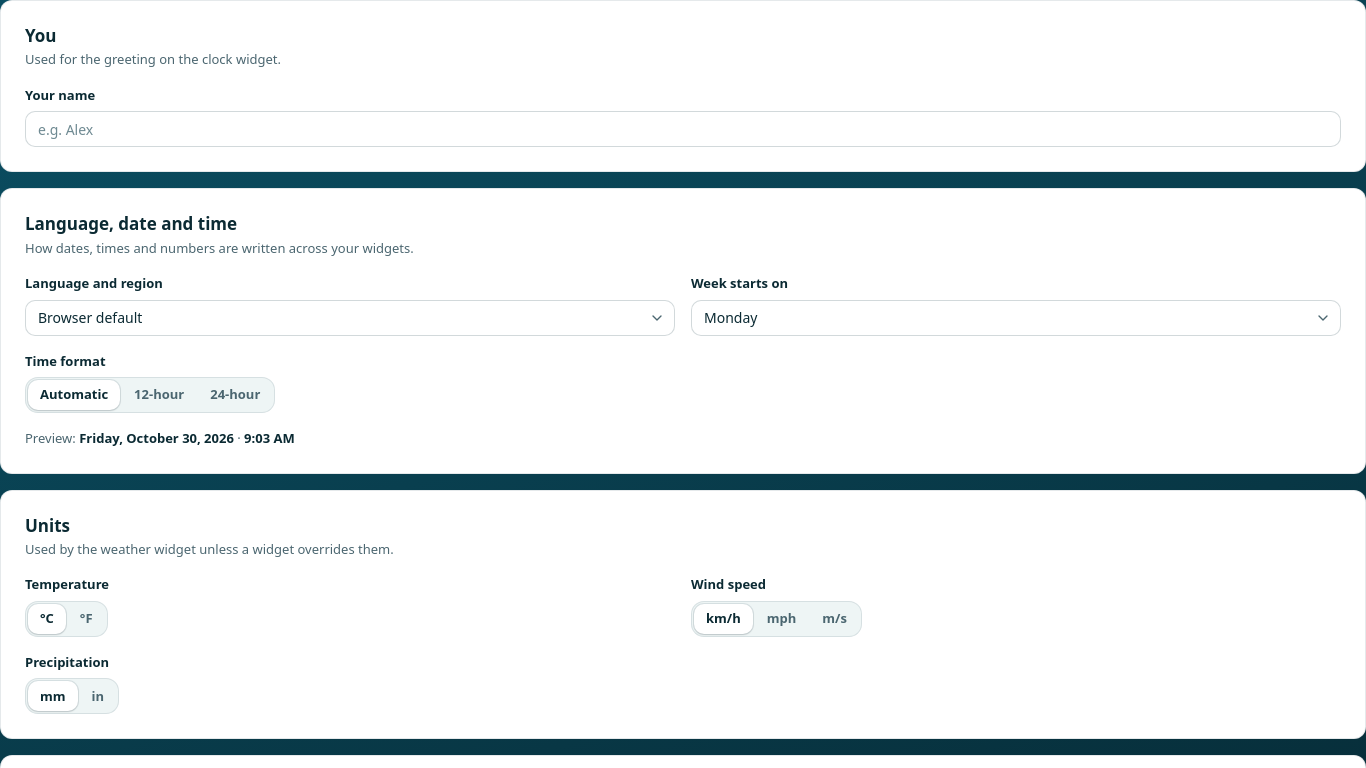
Test case: General settings (saved as you go, UX-5) › saves each choice on its own, without a Save button
The width and height of the screenshot is (1366, 768).
Select "Deutsch (Deutschland)" in the dropdown labelled "Language and region" at (350, 318), box x1=25 y1=300 x2=675 y2=336
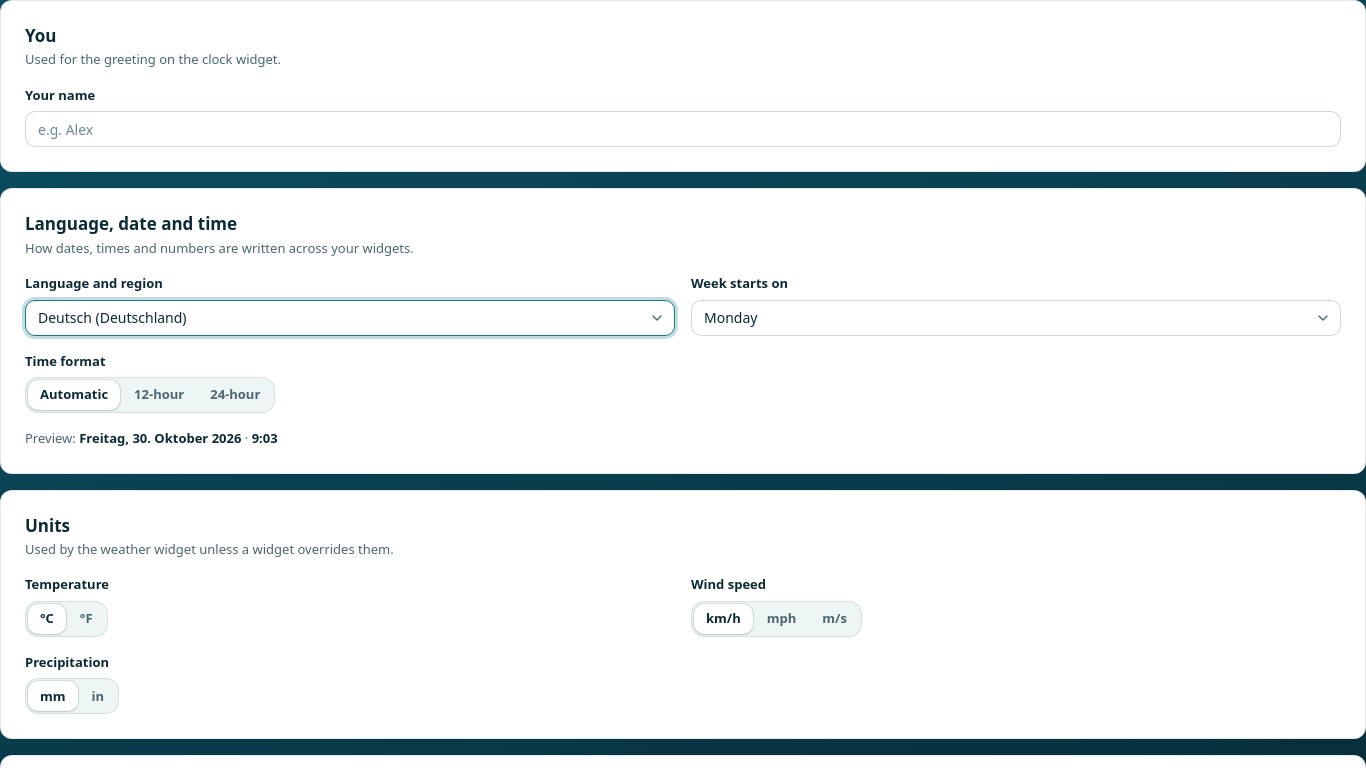
Click the radio button labelled "24-hour" at (235, 395), box x1=198 y1=380 x2=272 y2=410
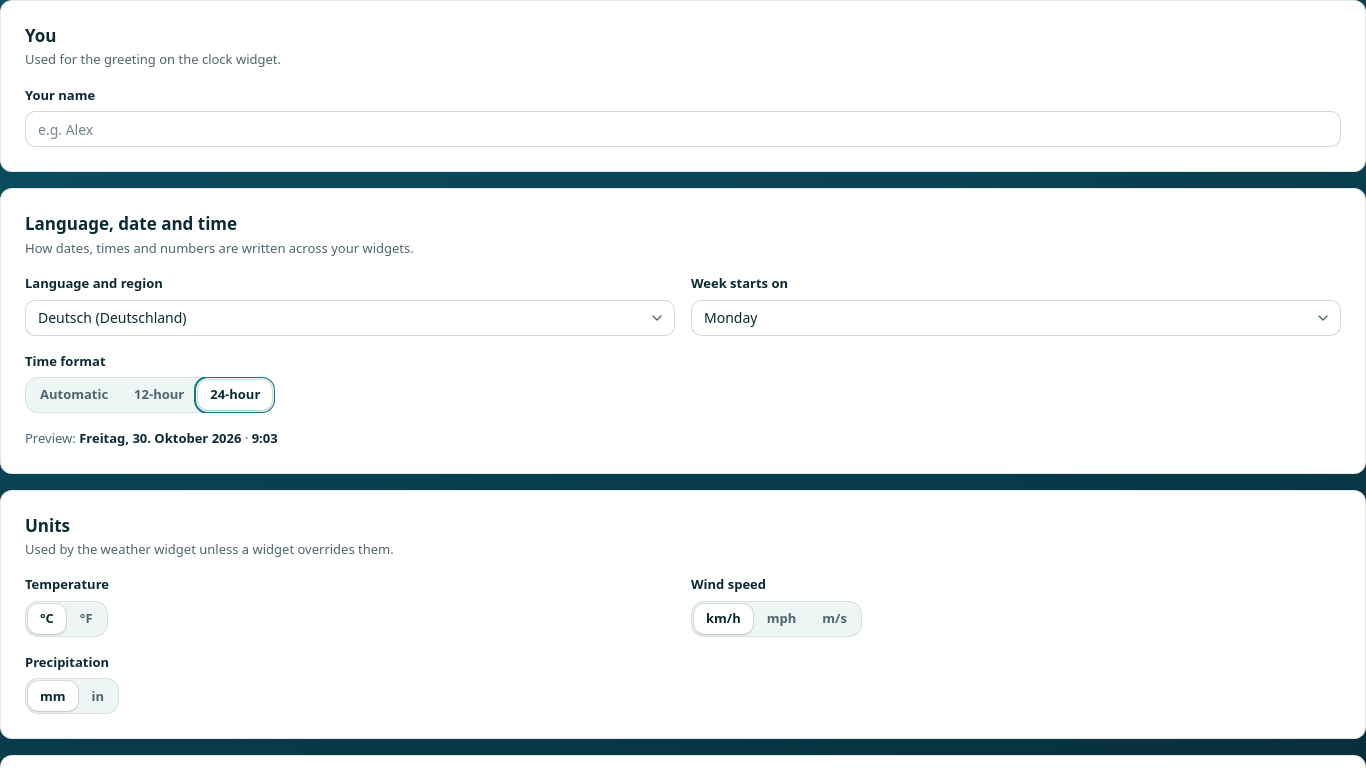
Select "Sunday" in the dropdown labelled "Week starts on" at (1016, 318), box x1=691 y1=300 x2=1341 y2=336
Click the radio button labelled "°F" at (86, 619), box x1=68 y1=604 x2=105 y2=634
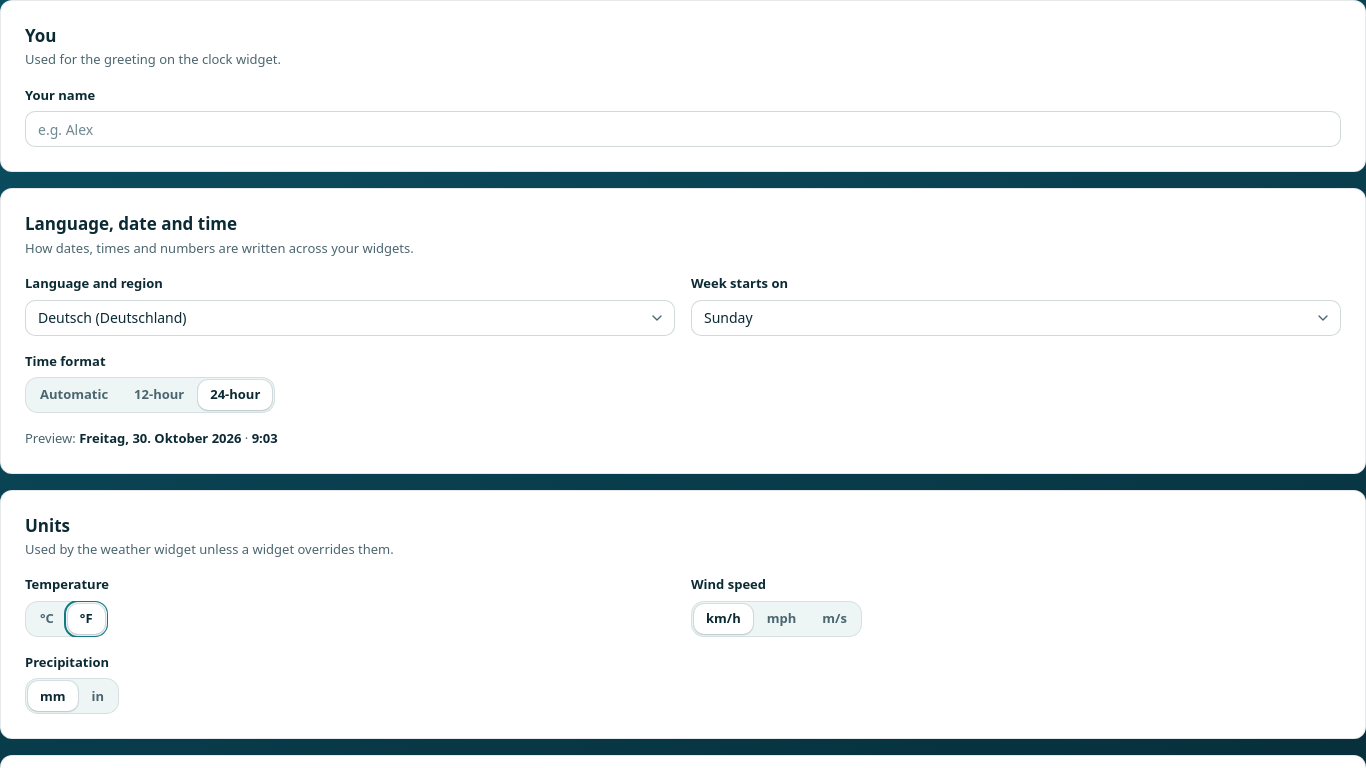
Click the radio button labelled "mph" at (782, 619), box x1=755 y1=604 x2=808 y2=634
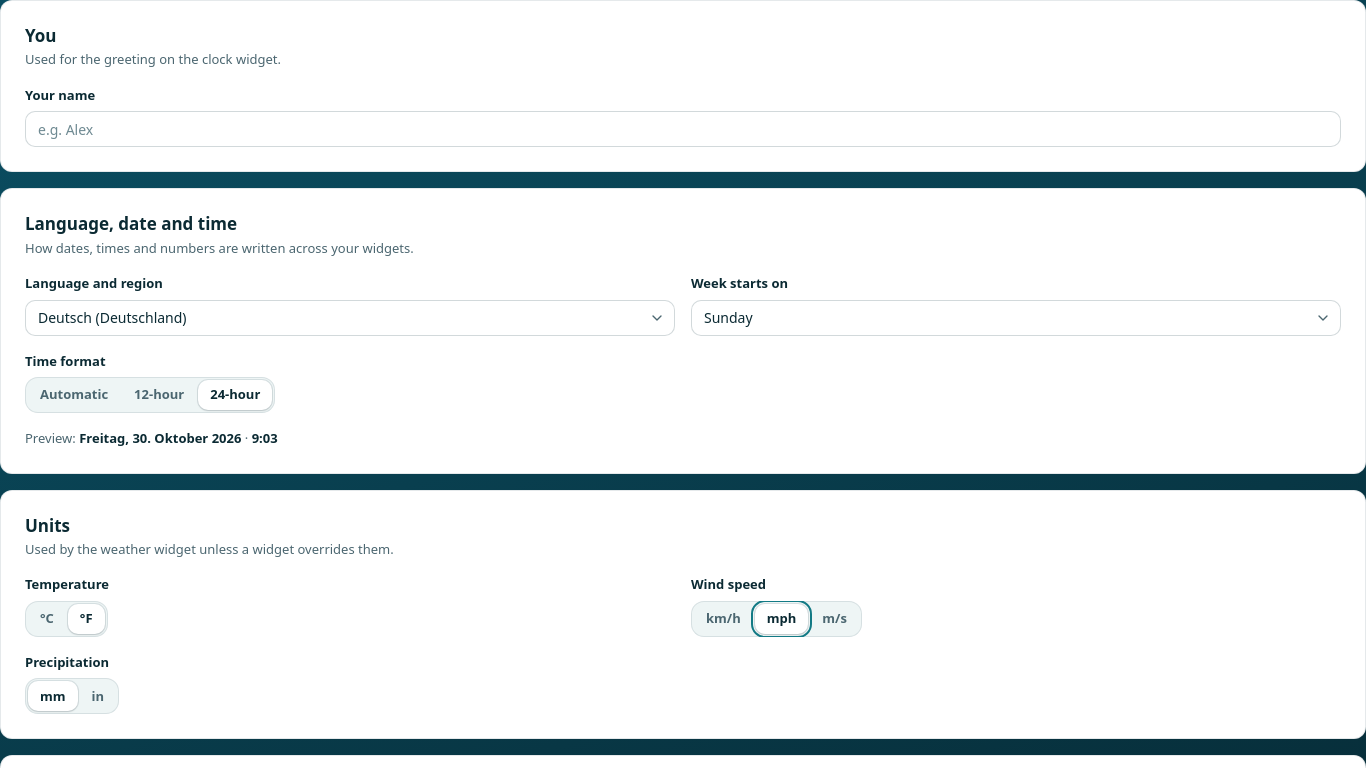
Click the radio button labelled "in" at (98, 696), box x1=80 y1=681 x2=116 y2=711
(page scrolled)
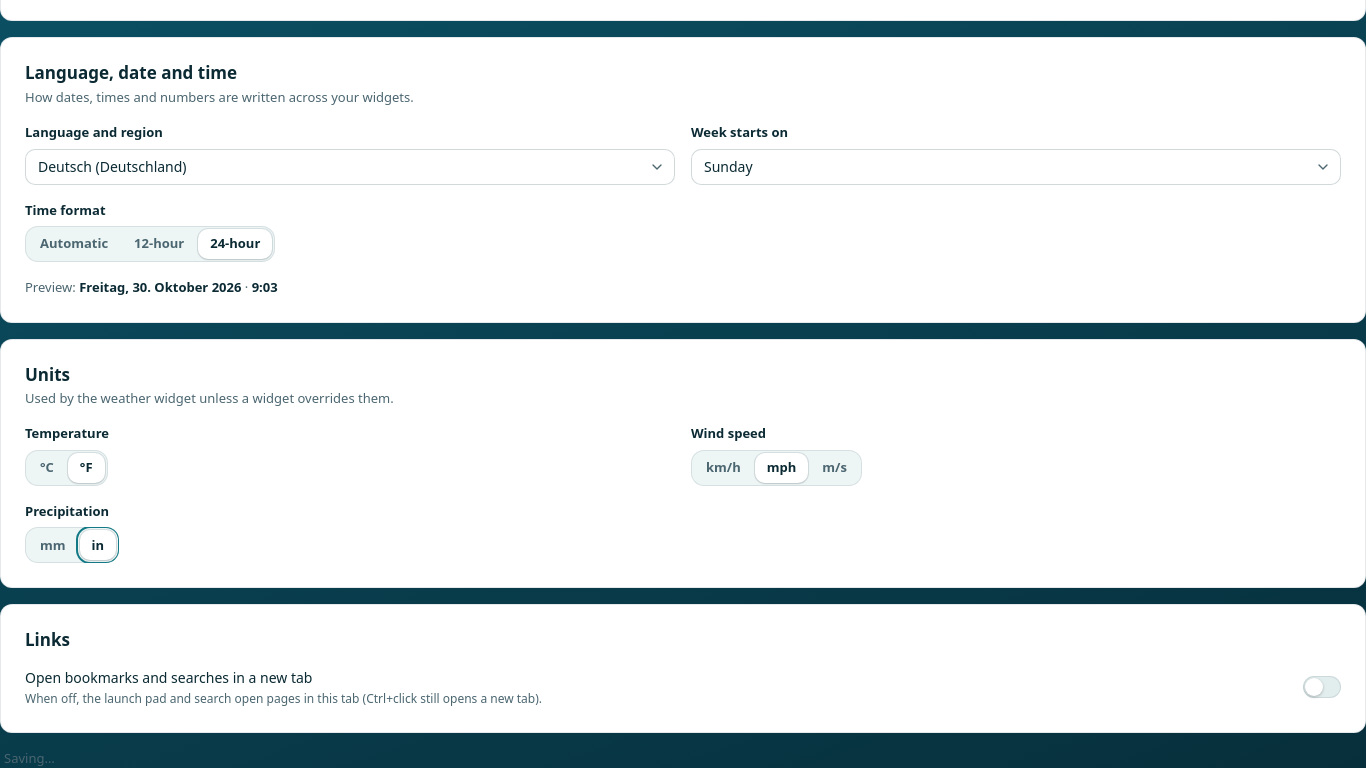
Click the switch named "Open bookmarks and searches in a new tab" at (1322, 687), box x1=1303 y1=676 x2=1341 y2=698
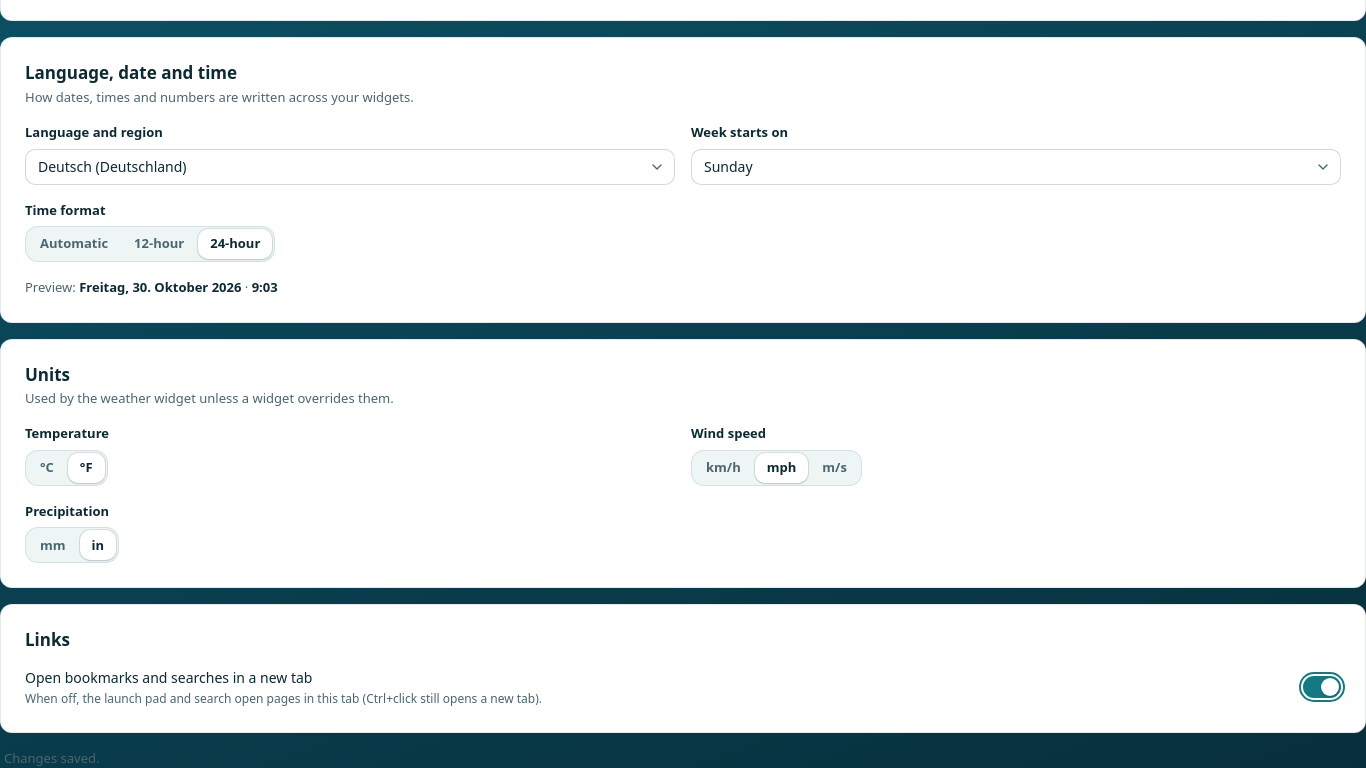
Now the text "Changes saved." is shown, box x1=4 y1=748 x2=100 y2=766
